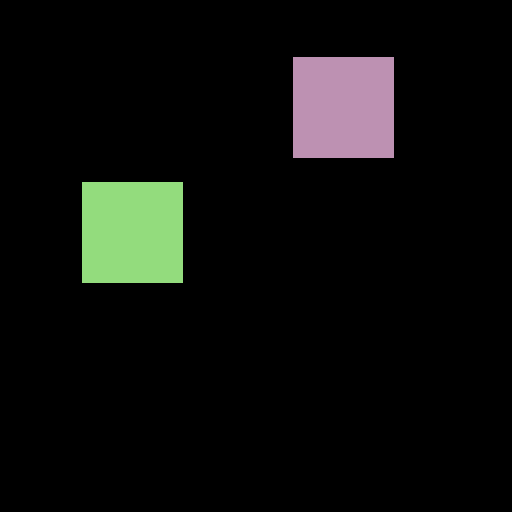square: (82, 182, 182, 282), (293, 57, 393, 157)
